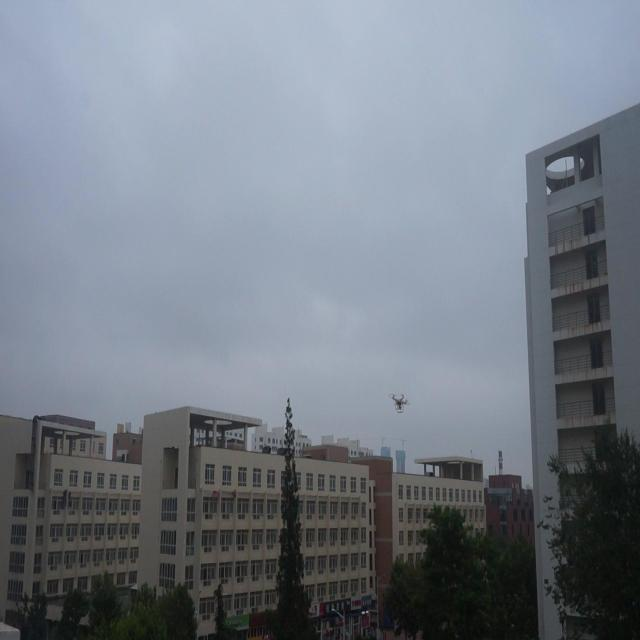drone: (391, 390, 410, 416)
